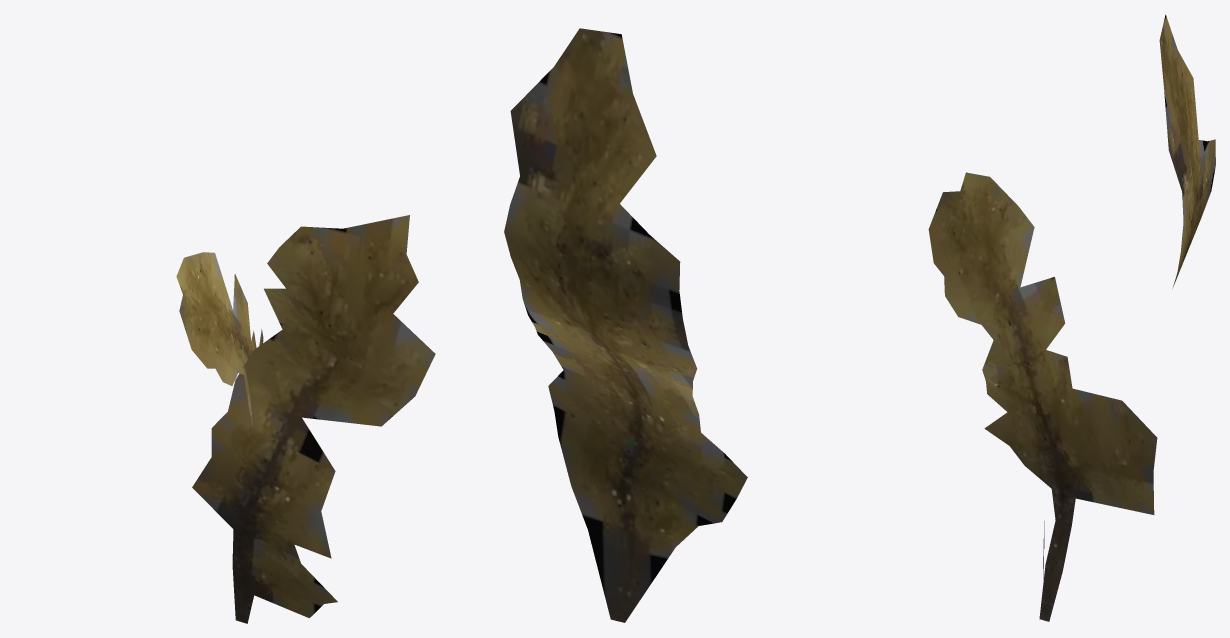
File: Seaweed_C2-transformed.glb
3 renders of one model, left to right at view 1: azimuth 30°, elevation 25°; view 2: azimuth 150°, elevation 25°; view 3: azimuth 270°, elevation 25°, orthographic. The views are drawn at different scales.
Visible parts, largest first — view 1: Seaweed_C2; view 2: Seaweed_C2; view 3: Seaweed_C2.
Part boxes in pixels (x1,y1,x2,y2): Seaweed_C2: (176, 215, 435, 623); Seaweed_C2: (504, 28, 747, 622); Seaweed_C2: (928, 14, 1215, 621).
Bounding box in the file's own units: 0.1585 × 0.3808 × 0.2287.
1 material, 1 textured.
